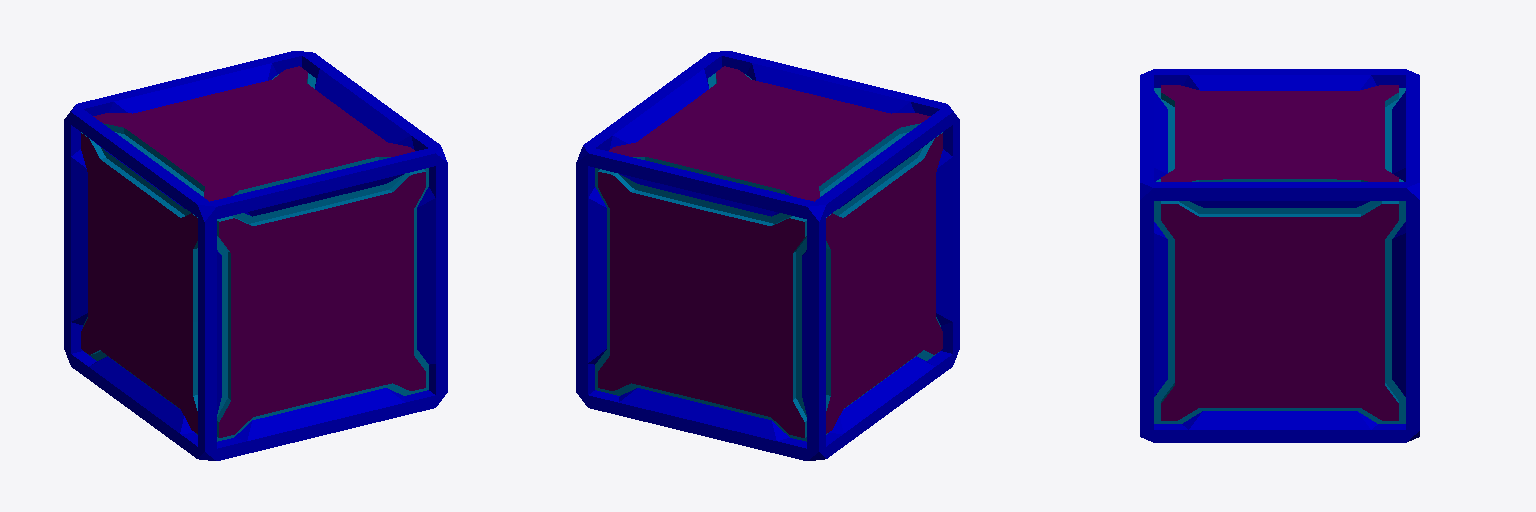
File: FancyCube.obj
3 views of the same model, side by side, from view 1: azimuth 30°, elevation 25°; view 2: azimuth 150°, elevation 25°; view 3: azimuth 270°, elevation 25° (orthographic).
Parts seen in each view (by area): view 1: Cube_Cube.001; view 2: Cube_Cube.001; view 3: Cube_Cube.001.
Part boxes in pixels (x1,y1,x2,y2): Cube_Cube.001: (64, 51, 447, 460); Cube_Cube.001: (576, 51, 959, 460); Cube_Cube.001: (1140, 69, 1419, 442).
Size of the model in its own units: 1 by 1 by 1.